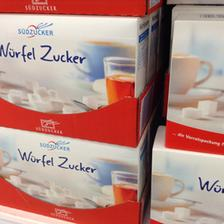Zucker: (0, 13, 148, 115), (0, 126, 148, 214), (162, 9, 222, 155), (149, 140, 223, 220)
